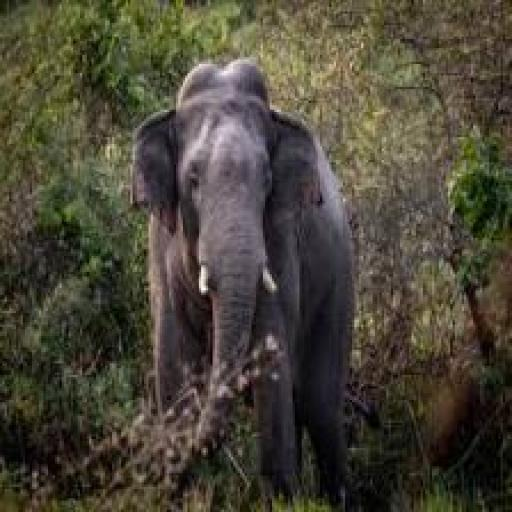Elephant: (78, 55, 394, 512)
